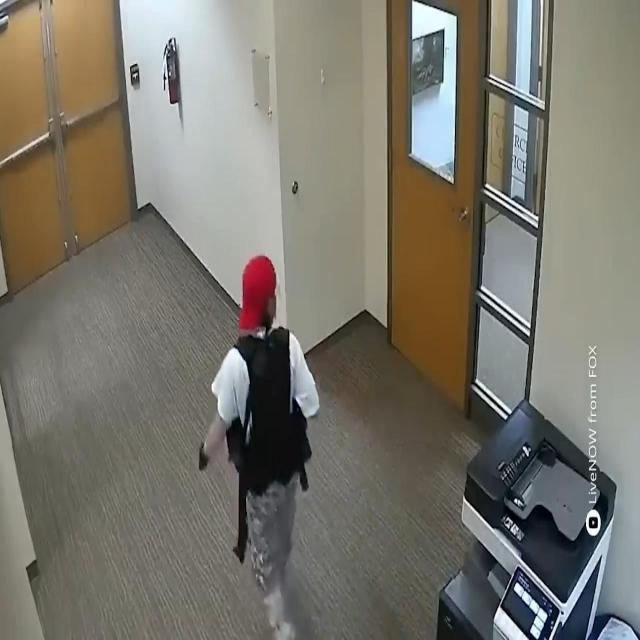pistol: (229, 466, 248, 574)
